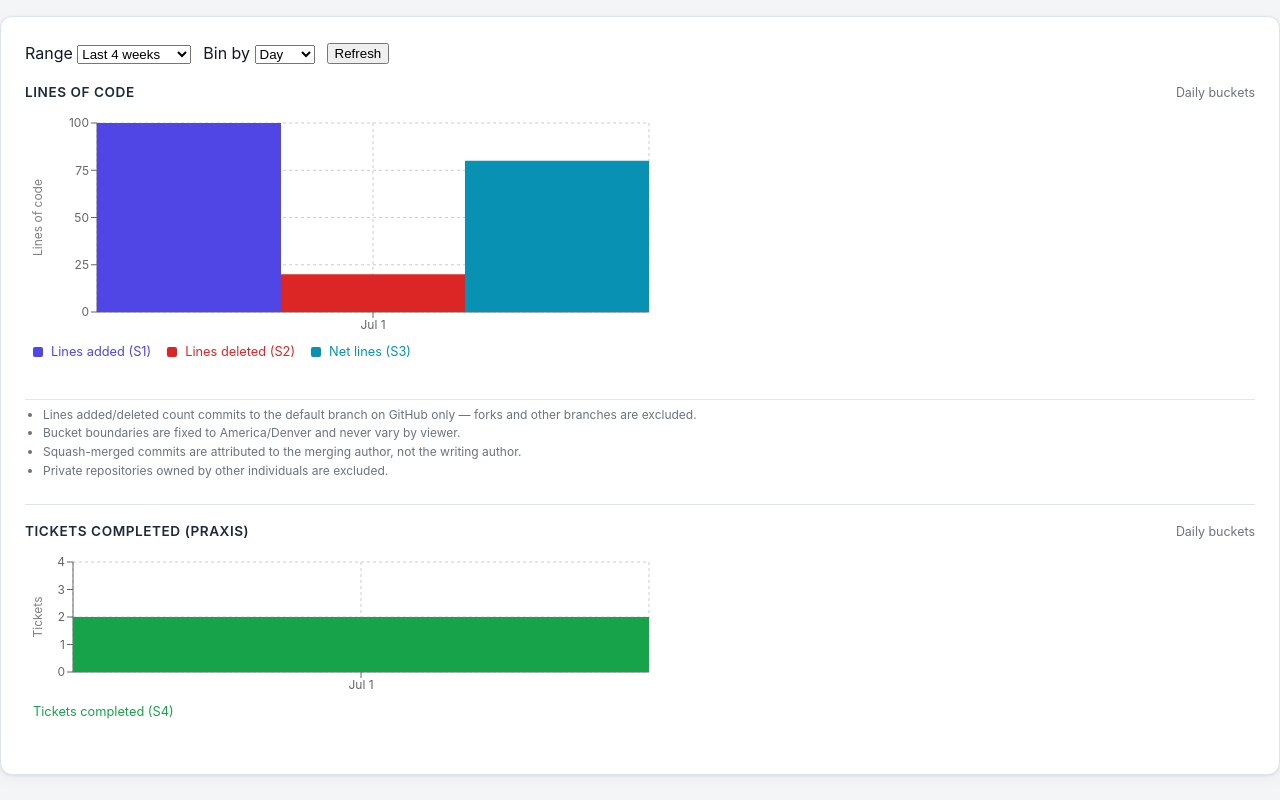
Scenario: ProductivityPanel range dropdown (R16) › opens defaulted to 'Last 4 weeks', and selecting 'Last 12 months' re-queries range=12months and relabels the axis to weekly buckets
Expected: the 1st icon with class "recharts-surface" is shown, [25,111,665,391]
Select "Last 12 months" in the dropdown with test id "productivity-range" at (134, 54), box [77,45,191,64]
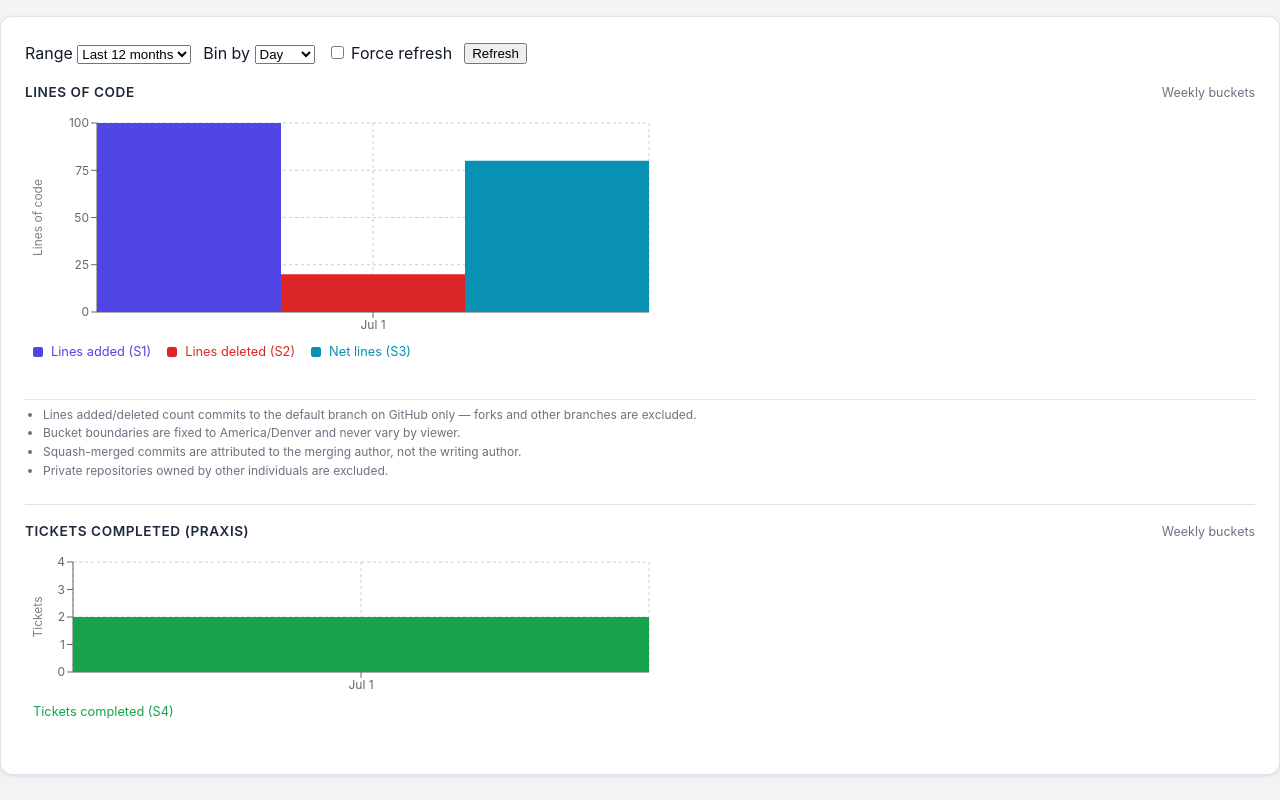
Now the text "Weekly buckets" is shown, box [1162,83,1255,102]
